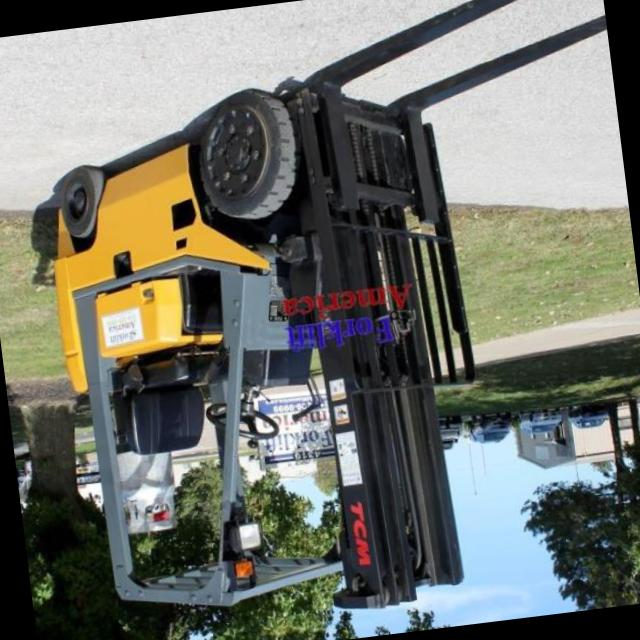forklift: (21, 49, 526, 640)
